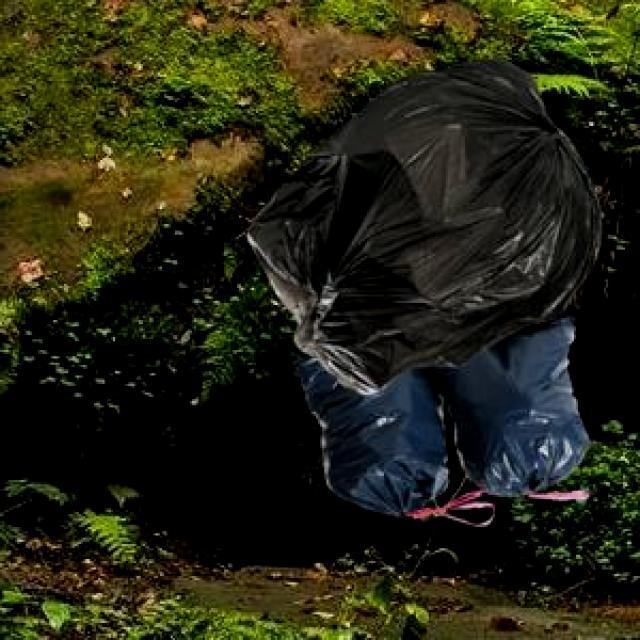Trashbag: (242, 44, 608, 400), (294, 350, 456, 520), (444, 320, 591, 502)
